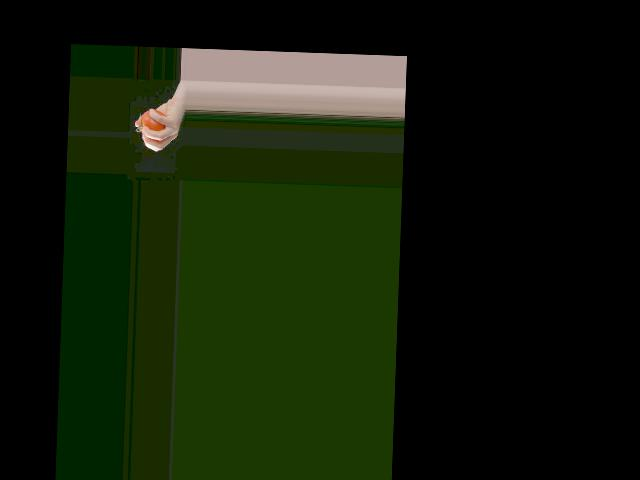tomato: (141, 109, 167, 134)
